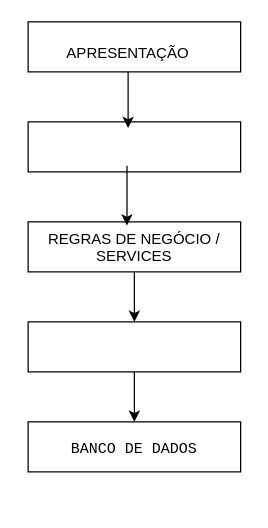
Image size: 268x528. Some labels were removed from this diagram. Here are the shapes that lost their labels. From the top down, the box of each, then its label:
(27, 121, 241, 172): CONTROLADORES
(27, 321, 241, 372): PERSISTÊNCIA / REPOSITÓRIOS
